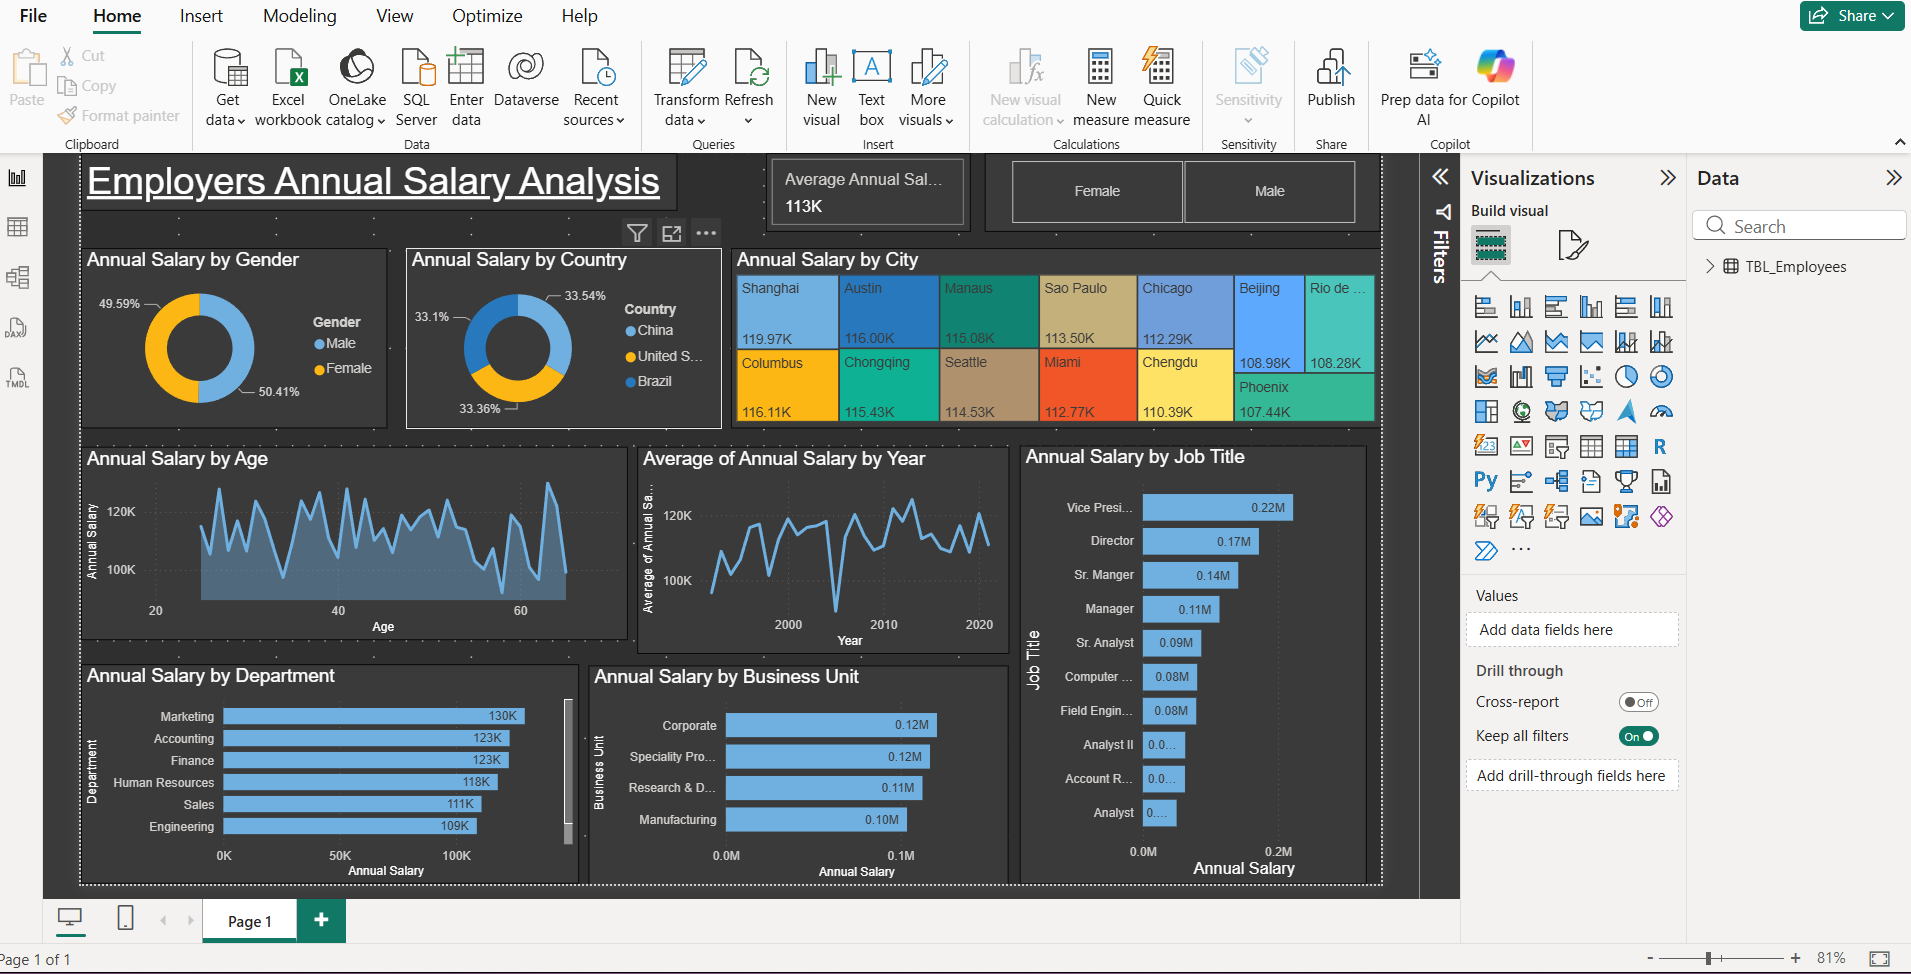

What the dashboard file says about the page in this screenshot:
{"tool":"powerbi","page":{"name":"Page 1","canvas":[1280,720],"ordinal":0},"visuals":[{"type":"textbox","box":[0,0,587.5,56.7],"z":0},{"type":"cardVisual","fields":{"Data":["TBL_Employees.Average Annual Salary1"]},"box":[674.4,0,201.5,77.2],"z":1000},{"type":"donutChart","fields":{"Category":["TBL_Employees.Gender"],"Y":["Avg(TBL_Employees.Annual Salary)"]},"box":[0,94.1,301.6,177.3],"z":2000},{"type":"donutChart","fields":{"Y":["Avg(TBL_Employees.Annual Salary)"],"Category":["TBL_Employees.Country"]},"box":[319.7,94.1,311.3,177.3],"z":3000},{"type":"treemap","fields":{"Group":["TBL_Employees.City"],"Values":["Avg(TBL_Employees.Annual Salary)"]},"box":[639.4,94.1,640.6,177.3],"z":4000},{"type":"stackedAreaChart","fields":{"Category":["TBL_Employees.Age"],"Y":["Avg(TBL_Employees.Annual Salary)"]},"box":[0,288.8,538.8,190],"z":5000},{"type":"lineChart","fields":{"Category":["TBL_Employees.Hire Date.Variation.Date Hierarchy.Year"],"Y":["Avg(TBL_Employees.Annual Salary)"]},"box":[547.5,288.8,366.2,203.8],"z":6000},{"type":"barChart","fields":{"Category":["TBL_Employees.Department"],"Y":["Avg(TBL_Employees.Annual Salary)"]},"box":[0,503.8,490,216.2],"z":7000},{"type":"clusteredBarChart","fields":{"Category":["TBL_Employees.Business Unit"],"Y":["Avg(TBL_Employees.Annual Salary)"]},"box":[499.5,504.3,413.8,216],"z":8000},{"type":"clusteredBarChart","fields":{"Category":["TBL_Employees.Job Title"],"Y":["Avg(TBL_Employees.Annual Salary)"]},"box":[924.1,288.3,341.4,431.9],"z":9000},{"type":"slicer","fields":{"Values":["TBL_Employees.Gender"]},"box":[890.4,0,389.7,77.2],"z":10000}]}

Visuals, with their boxes on the page's 1280x720 design canvas (x1, y1, x2, y2). These are canvas units, not pixel positions in the 1911x974 screenshot, which may show the page scaled, cropped or inside an application window:
textbox: (left=0, top=0, right=588, bottom=57)
cardVisual - TBL_Employees.Average Annual Salary1: (left=674, top=0, right=876, bottom=77)
donutChart - TBL_Employees.Gender x Avg(TBL_Employees.Annual Salary): (left=0, top=94, right=302, bottom=271)
donutChart - Avg(TBL_Employees.Annual Salary) x TBL_Employees.Country: (left=320, top=94, right=631, bottom=271)
treemap - TBL_Employees.City x Avg(TBL_Employees.Annual Salary): (left=639, top=94, right=1280, bottom=271)
stackedAreaChart - TBL_Employees.Age x Avg(TBL_Employees.Annual Salary): (left=0, top=289, right=539, bottom=479)
lineChart - TBL_Employees.Hire Date.Variation.Date Hierarchy.Year x Avg(TBL_Employees.Annual Salary): (left=548, top=289, right=914, bottom=493)
barChart - TBL_Employees.Department x Avg(TBL_Employees.Annual Salary): (left=0, top=504, right=490, bottom=720)
clusteredBarChart - TBL_Employees.Business Unit x Avg(TBL_Employees.Annual Salary): (left=500, top=504, right=913, bottom=720)
clusteredBarChart - TBL_Employees.Job Title x Avg(TBL_Employees.Annual Salary): (left=924, top=288, right=1266, bottom=720)
slicer - TBL_Employees.Gender: (left=890, top=0, right=1280, bottom=77)
